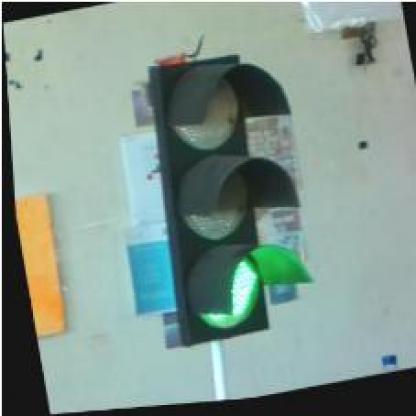green: (133, 51, 318, 349)
